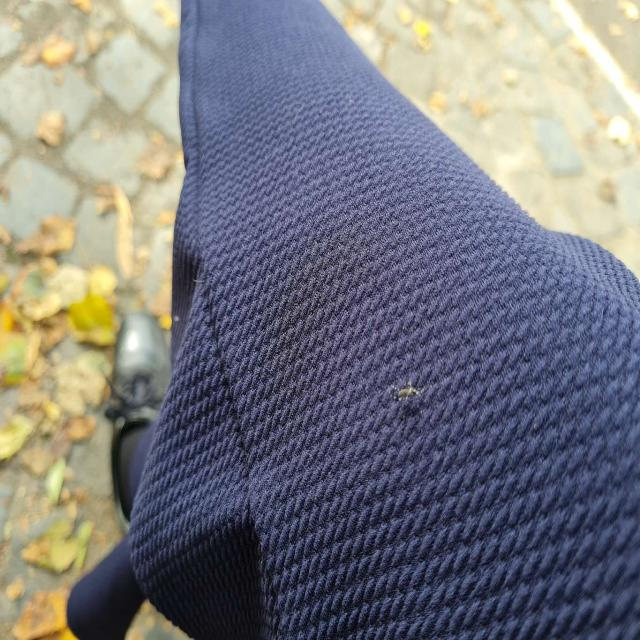albopictus: (82, 314, 169, 520)
